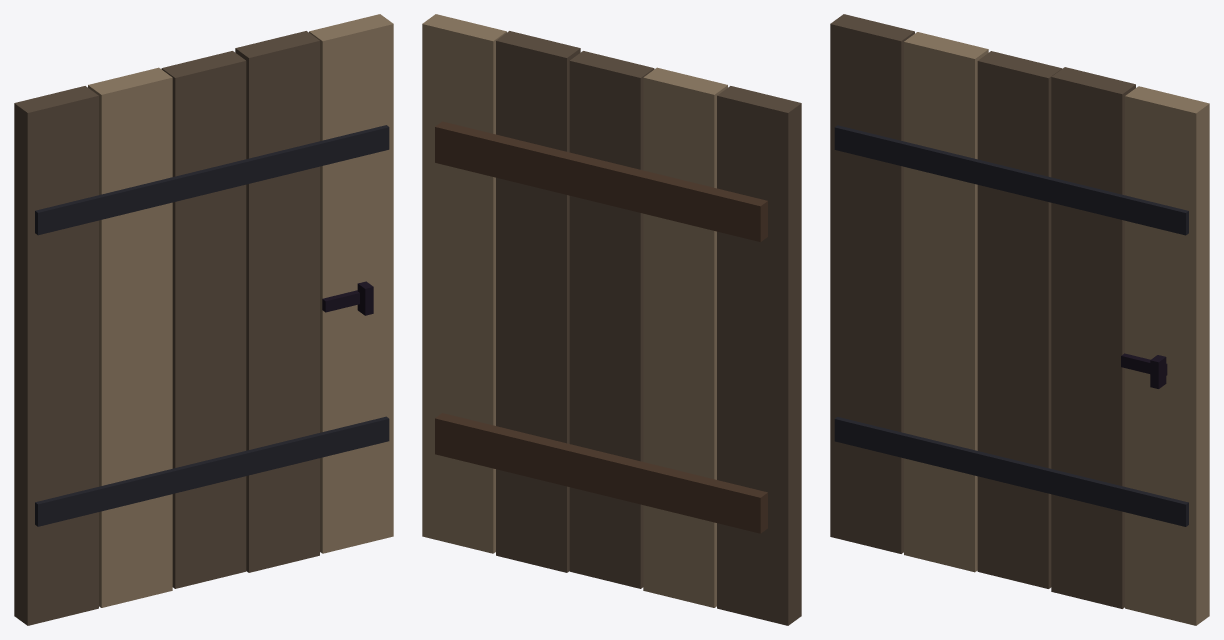
Rendered from door_house.glb.
3 renders of one model, left to right at view 1: azimuth 30°, elevation 25°; view 2: azimuth 150°, elevation 25°; view 3: azimuth 330°, elevation 25°, orthographic.
Visible parts, largest first — view 1: door_house; view 2: door_house; view 3: door_house.
Boxes of the visible parts, <box> form: door_house: <box>14,14,393,625</box>; door_house: <box>422,14,801,625</box>; door_house: <box>830,14,1209,625</box>.
Bounding box in the file's own units: 0.854 × 1.15 × 0.12.
